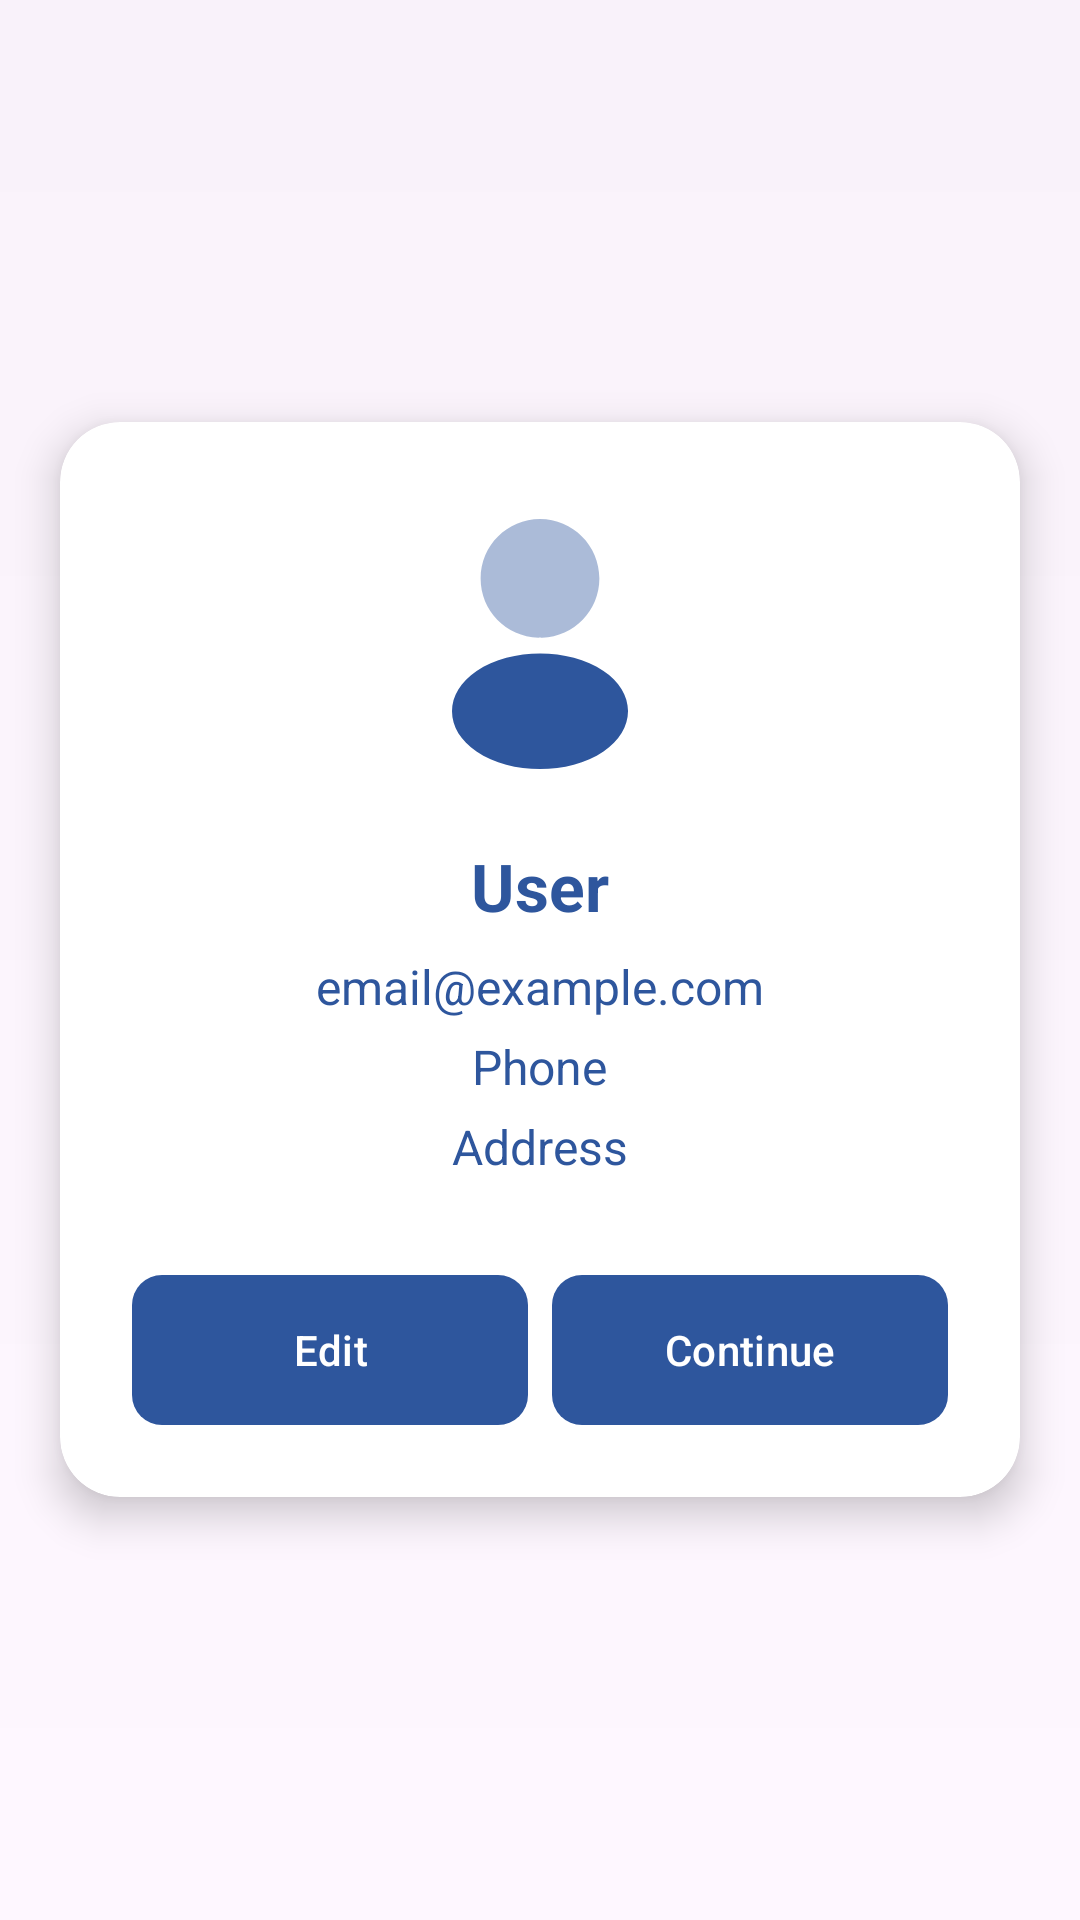

Icons on this 1080*1920 Android screen, each with its box as {"x1": x1, "y1": y1, "x2": x2, "y2": y2}:
profile: {"x1": 452, "y1": 519, "x2": 628, "y2": 769}
